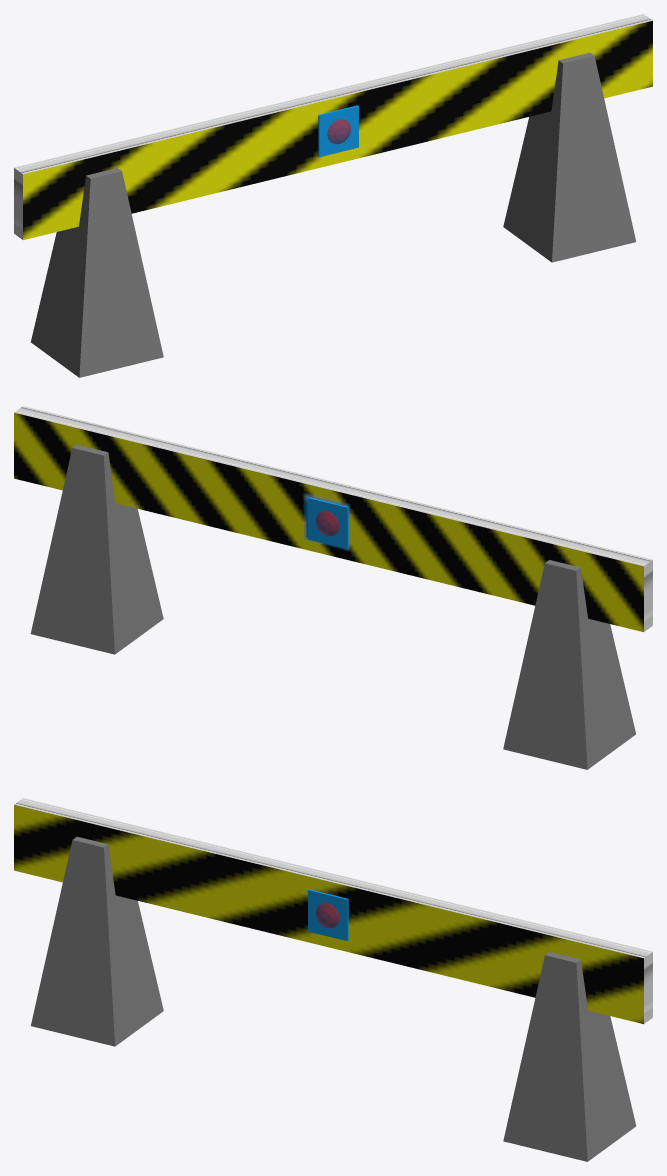
The model's file is barrier1_hi.obj.
The picture shows the model from 3 angles, top to bottom: view 1: azimuth 30°, elevation 25°; view 2: azimuth 150°, elevation 25°; view 3: azimuth 330°, elevation 25°; orthographic projection.
Parts seen in each view (by area): view 1: ColobotMesh_1_ColobotMesh_, plate_Cube; view 2: ColobotMesh_1_ColobotMesh_, plate_Cube; view 3: ColobotMesh_1_ColobotMesh_, plate_Cube.
Part boxes in pixels (bbox=[...]): ColobotMesh_1_ColobotMesh_: bbox=[14, 14, 652, 377]; plate_Cube: bbox=[318, 105, 358, 157]; ColobotMesh_1_ColobotMesh_: bbox=[14, 406, 652, 769]; plate_Cube: bbox=[308, 497, 348, 549]; ColobotMesh_1_ColobotMesh_: bbox=[14, 798, 652, 1161]; plate_Cube: bbox=[308, 889, 348, 940].
Bounding box in the file's own units: 20 × 6.01 × 2.68.
